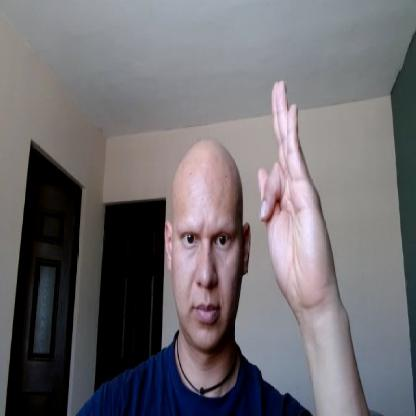F: (256, 78, 334, 300)
